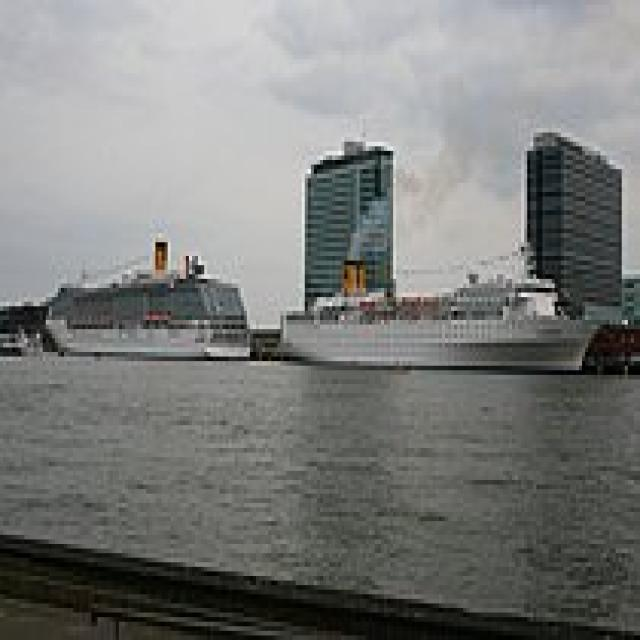Cruise: (272, 238, 600, 370), (40, 228, 250, 356)
